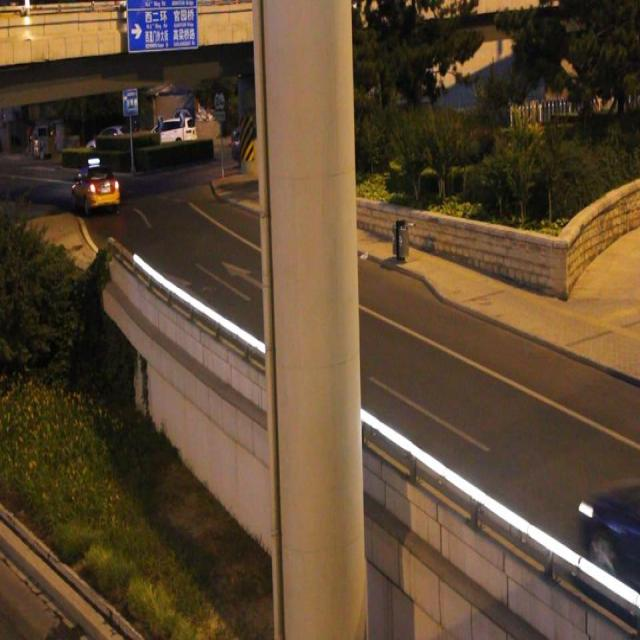car: (578, 471, 640, 596)
